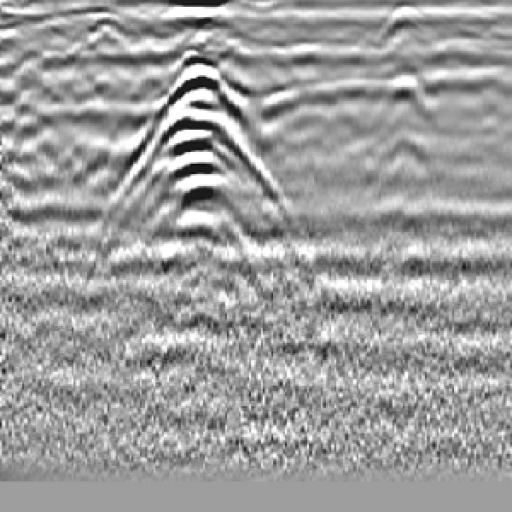metalic: (123, 47, 291, 257)
